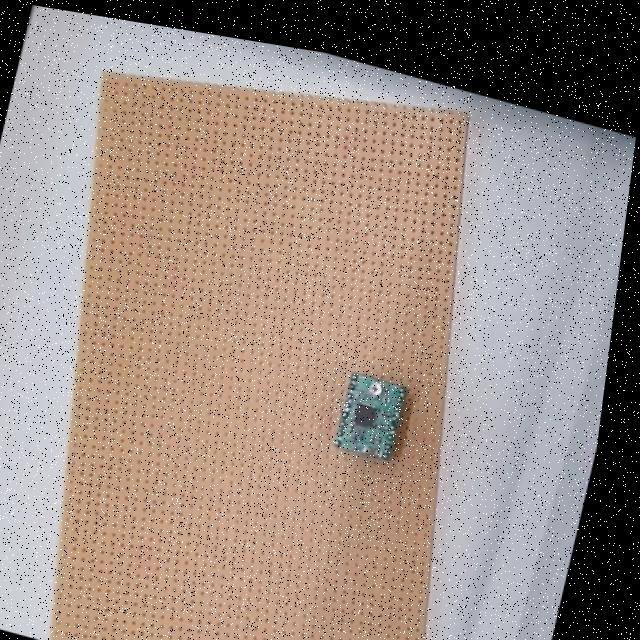Chip: (329, 367, 413, 465)
